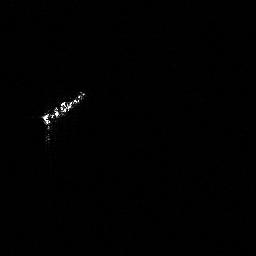ship: (40, 90, 87, 143)
